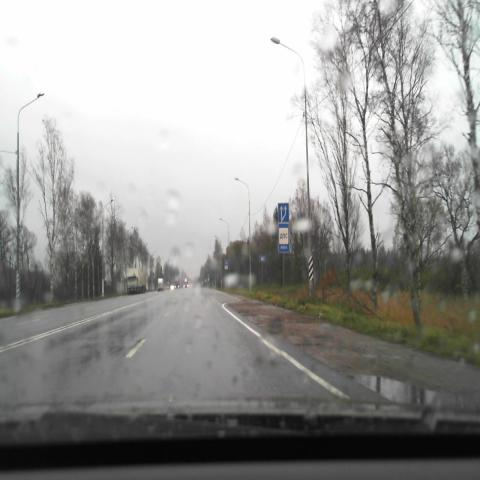7_12: (278, 223, 289, 253)
